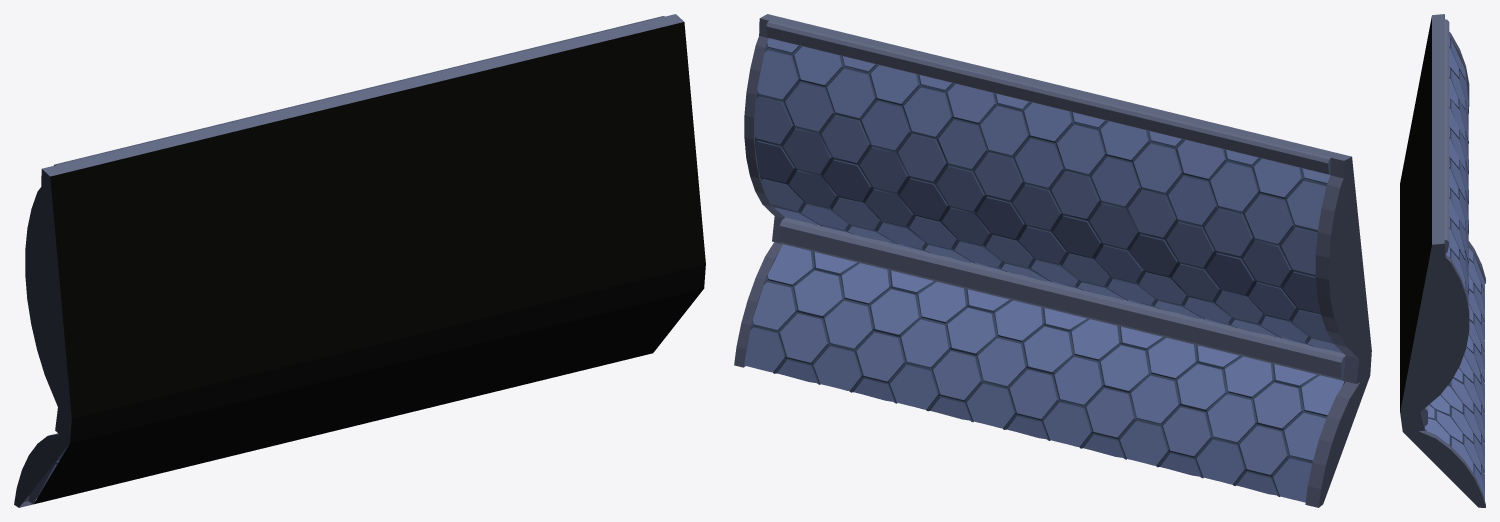
The model's file is hex-wall.fbx.
3 renders of one model, left to right at view 1: azimuth 30°, elevation 25°; view 2: azimuth 150°, elevation 25°; view 3: azimuth 270°, elevation 25°, orthographic. The views are drawn at different scales.
Parts seen in each view (by area): view 1: hex-wall-back; view 2: hex-wall.front, hex-wall-back; view 3: hex-wall-back, hex-wall.front.
Part boxes in pixels (bbox=[...]): hex-wall-back: bbox=[14, 14, 705, 507]; hex-wall.front: bbox=[744, 38, 1344, 502]; hex-wall-back: bbox=[734, 14, 1371, 507]; hex-wall-back: bbox=[1400, 14, 1485, 507]; hex-wall.front: bbox=[1425, 37, 1484, 500].
Bounding box in the file's own units: 65.04 × 10.26 × 34.91.
